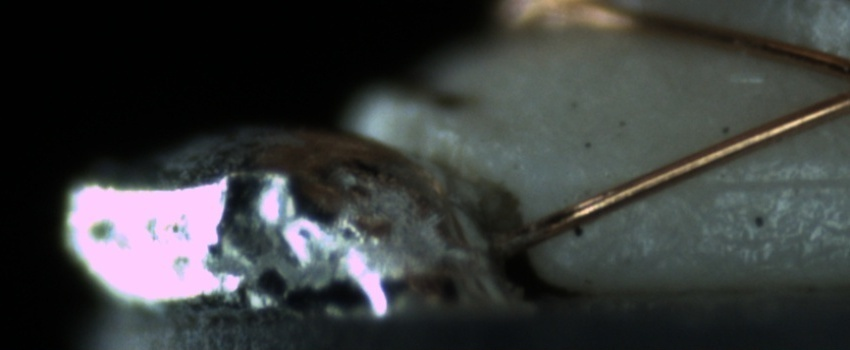CL: (831, 56, 850, 110)
DL: (690, 151, 847, 212)
